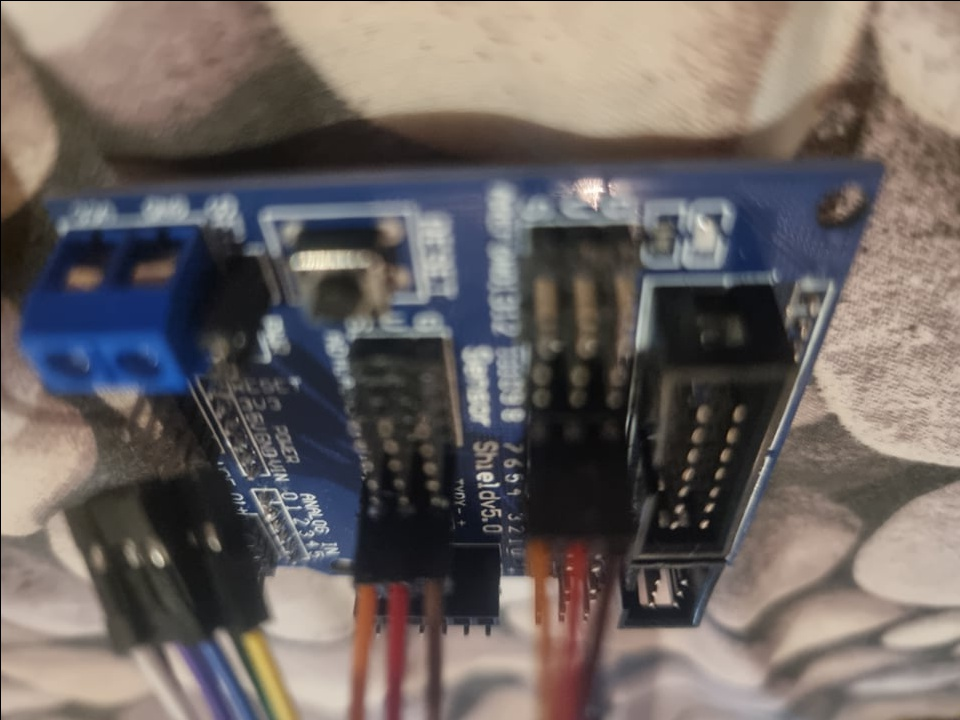5V EXPANSION: (12, 167, 884, 682)
